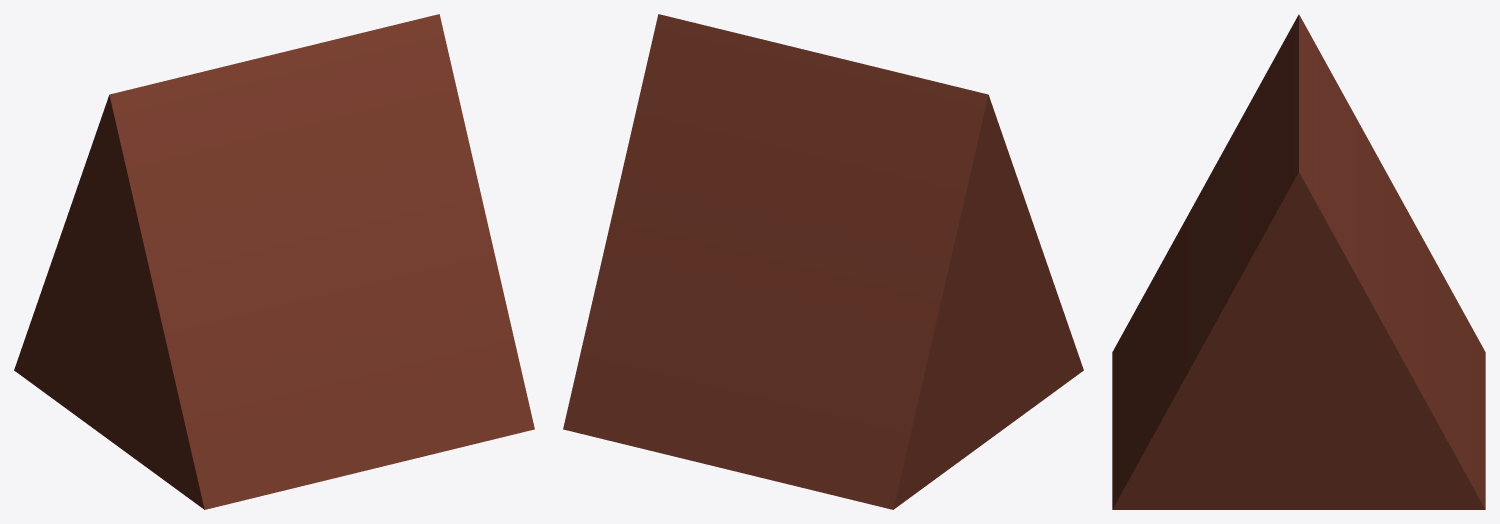
The model's file is Proxy_Gable_Tiles.gltf.
3 views of the same model, side by side, from view 1: azimuth 30°, elevation 25°; view 2: azimuth 150°, elevation 25°; view 3: azimuth 270°, elevation 25° (orthographic). The views are drawn at different scales.
Parts seen in each view (by area): view 1: Gable_Tiles; view 2: Gable_Tiles; view 3: Gable_Tiles.
Part boxes in pixels (x1=…): Gable_Tiles: x1=14, y1=14, x2=534, y2=509; Gable_Tiles: x1=563, y1=14, x2=1083, y2=509; Gable_Tiles: x1=1112, y1=14, x2=1485, y2=509.
Size of the model in its own units: 1 by 1 by 1.
